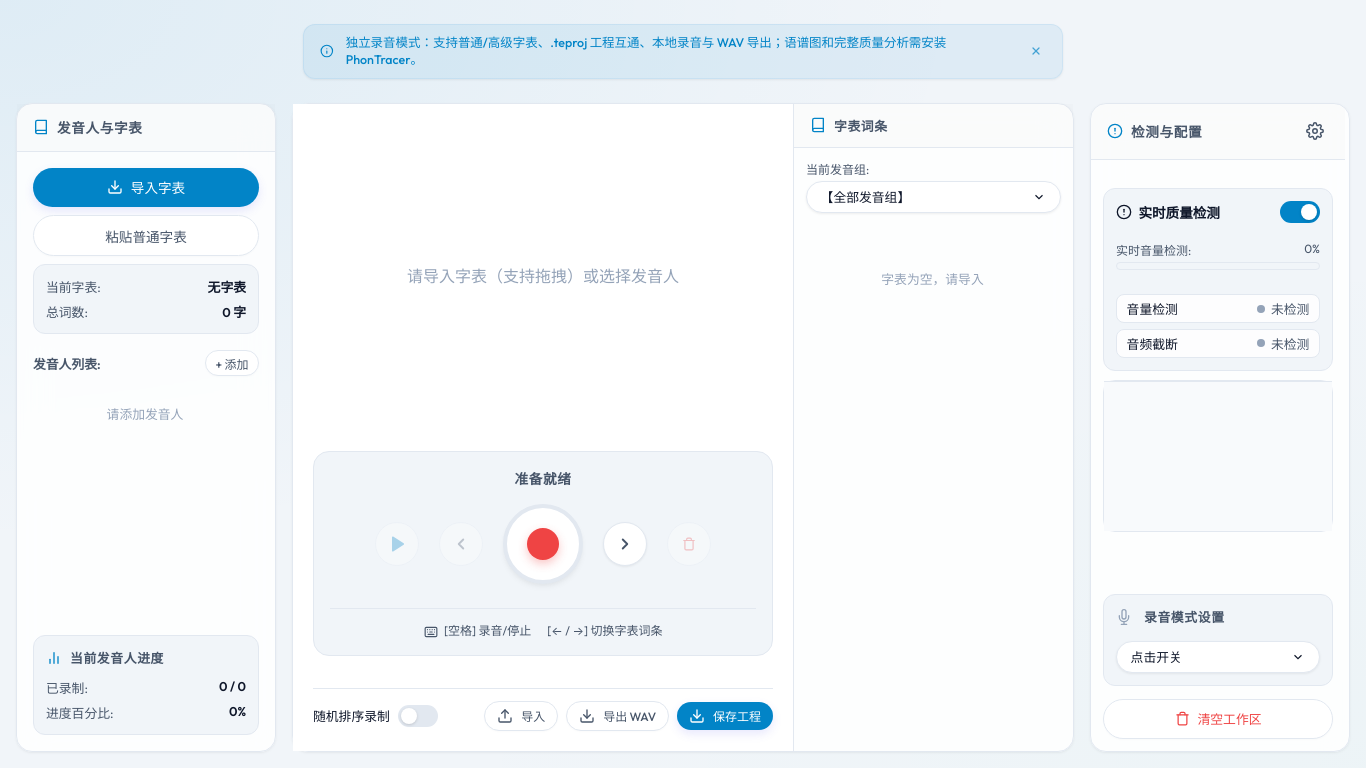
独立软件模式主界面 › 完整开放字表和工程互通能力，同时保留独立 WAV 导出
Expected: the text "独立录音模式" is shown, [346,35,946,67]
Expected: the button "导出 WAV" is shown, [566,701,669,731]
Click the button "粘贴普通字表". click: point(146, 236)
box: [33,215,259,256]
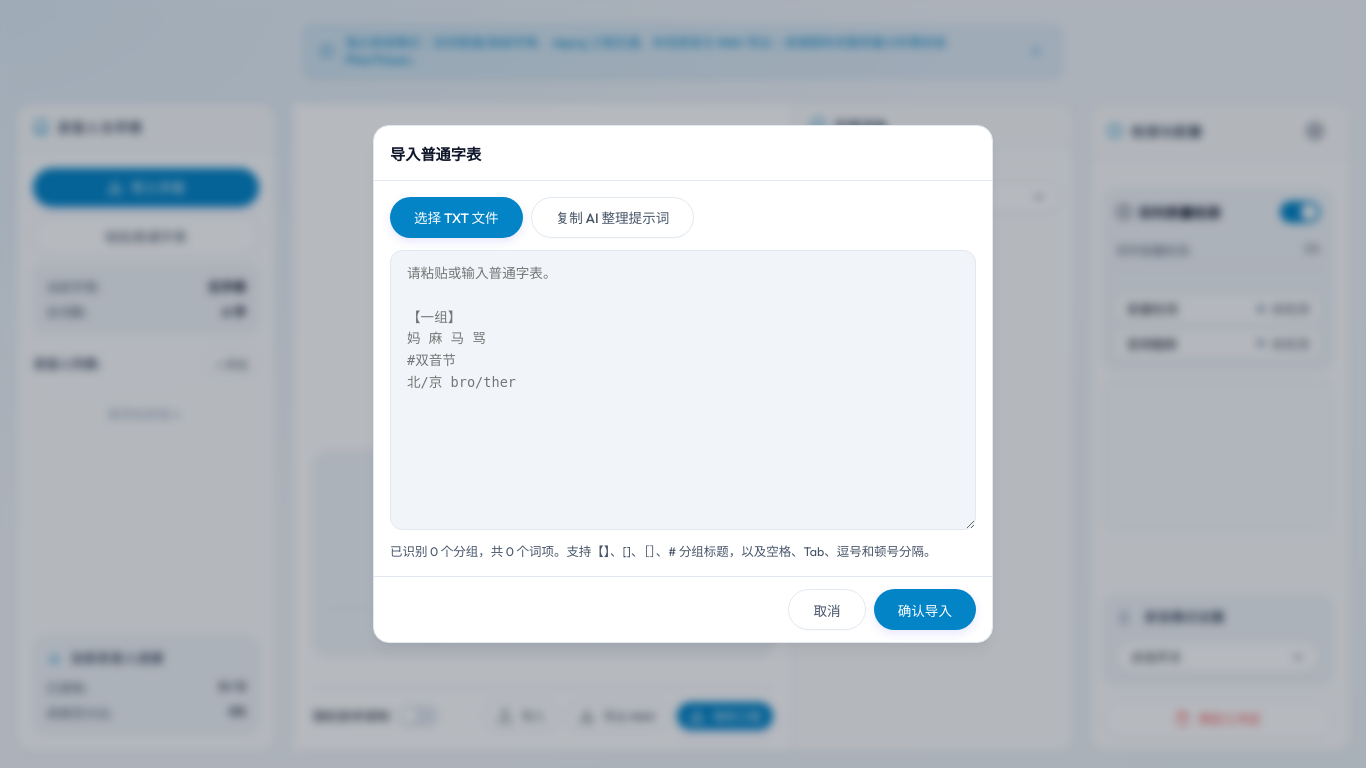
Expected: the dialog "导入普通字表" is shown
Expected: the button "选择 TXT 文件" is shown, [390,197,523,238]
